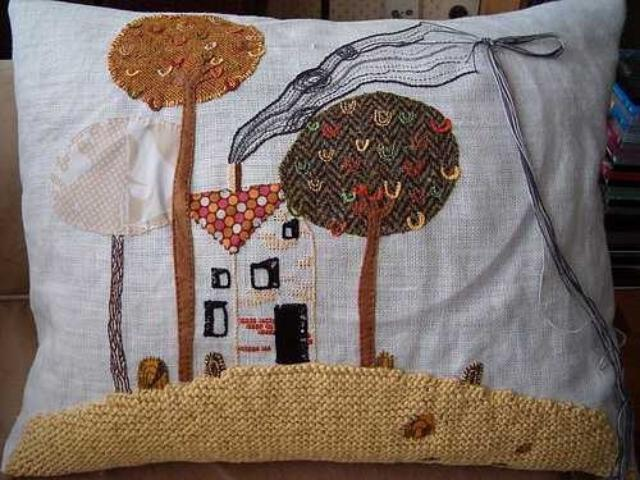pillow: (1, 0, 632, 478)
